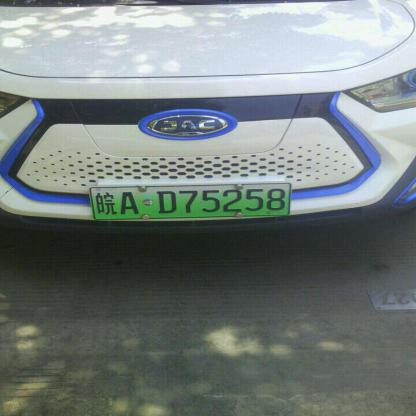lp: (90, 183, 290, 218)
